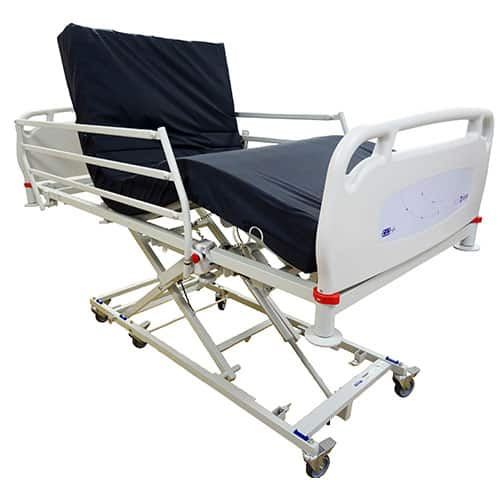trolley_bed: (11, 20, 494, 482)
